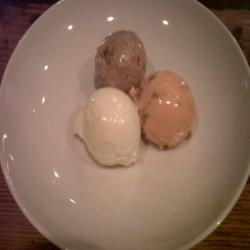icecream: (74, 27, 200, 178)
